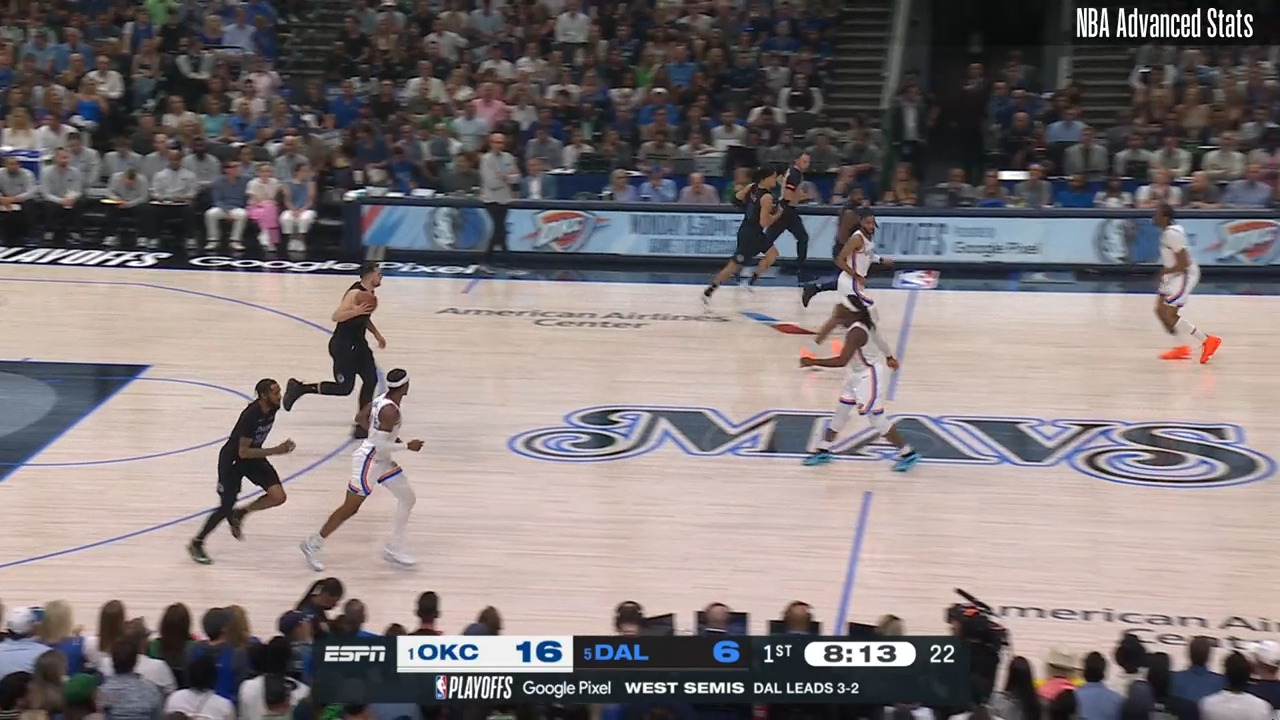basketball: (351, 286, 380, 316)
